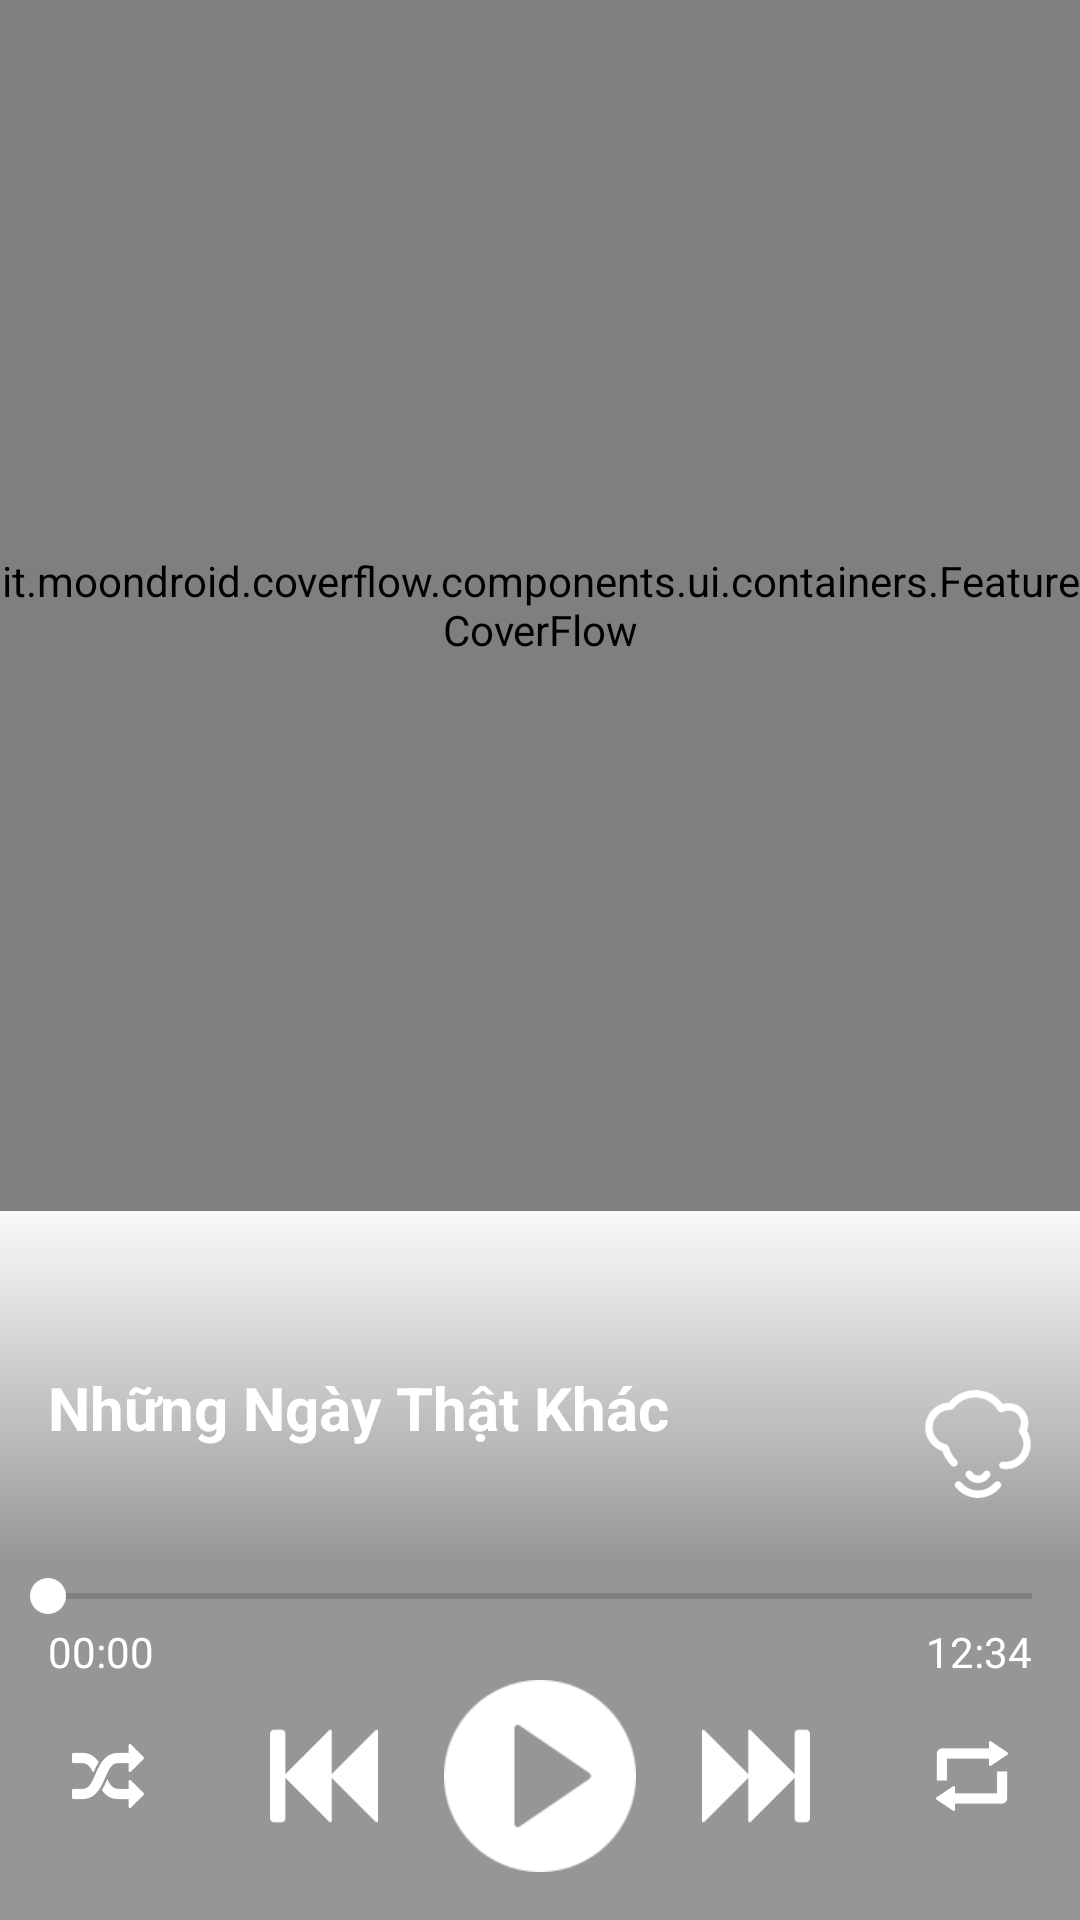

Named icons in this screenshot (1080px×1920px) and their bounding boxes, Rect(x1, y1, x2, y2):
cloud: Rect(924, 1390, 1032, 1498)
next: Rect(702, 1729, 810, 1823)
play: Rect(444, 1680, 636, 1872)
prev: Rect(270, 1729, 378, 1823)
repeat: Rect(936, 1741, 1008, 1811)
shuffle: Rect(72, 1744, 144, 1808)
